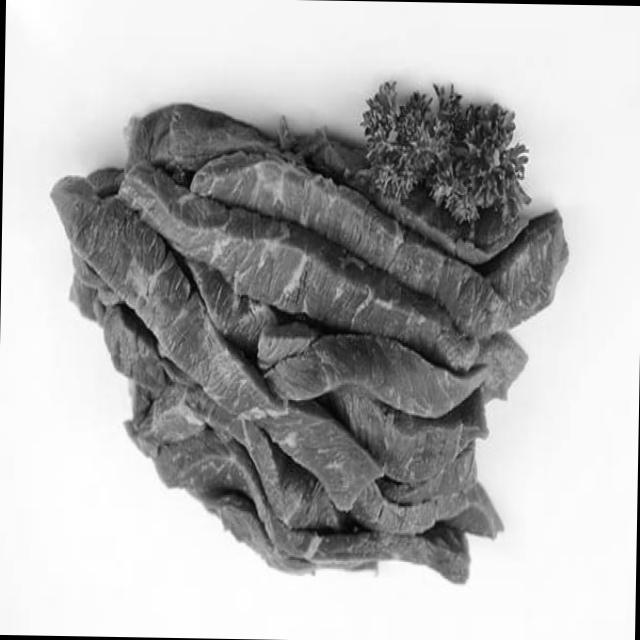thit mieng: (40, 206, 567, 590)
